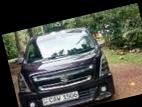car: (6, 21, 118, 107)
